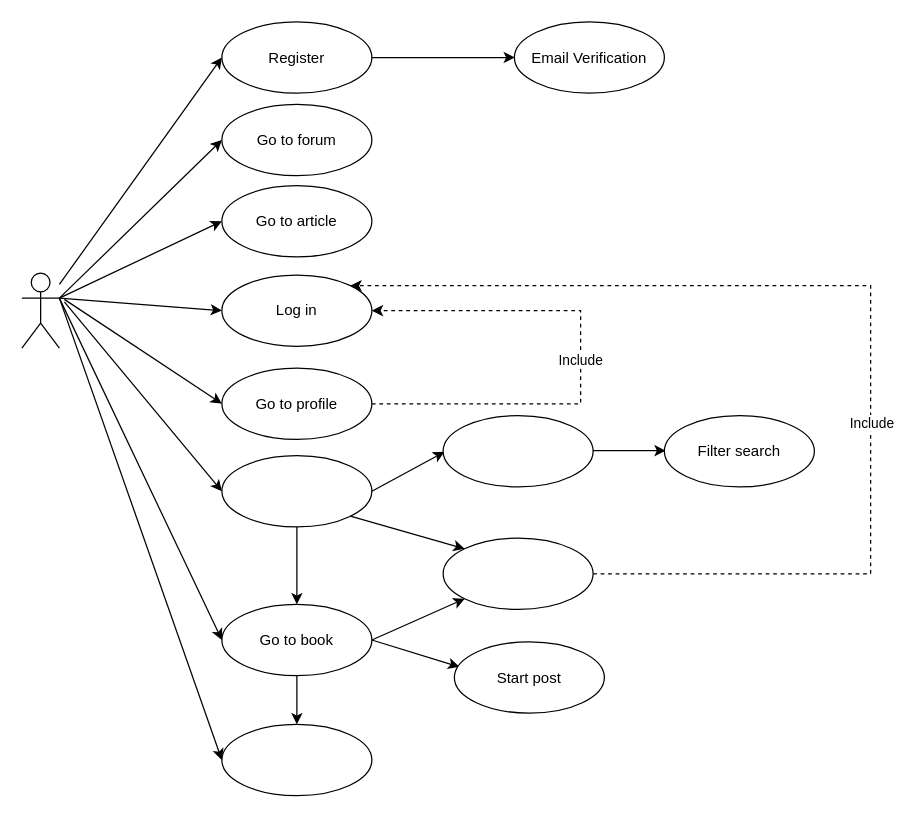
Some shapes in this 915 by 818 pixel diagram are drawn without their labels. Each missing label, with the box of its shape:
Add to lists: (442, 537, 593, 609)
Go to author: (221, 723, 372, 796)
Go to library: (221, 454, 372, 527)
Search for books: (442, 414, 593, 487)
User: (21, 272, 59, 348)
